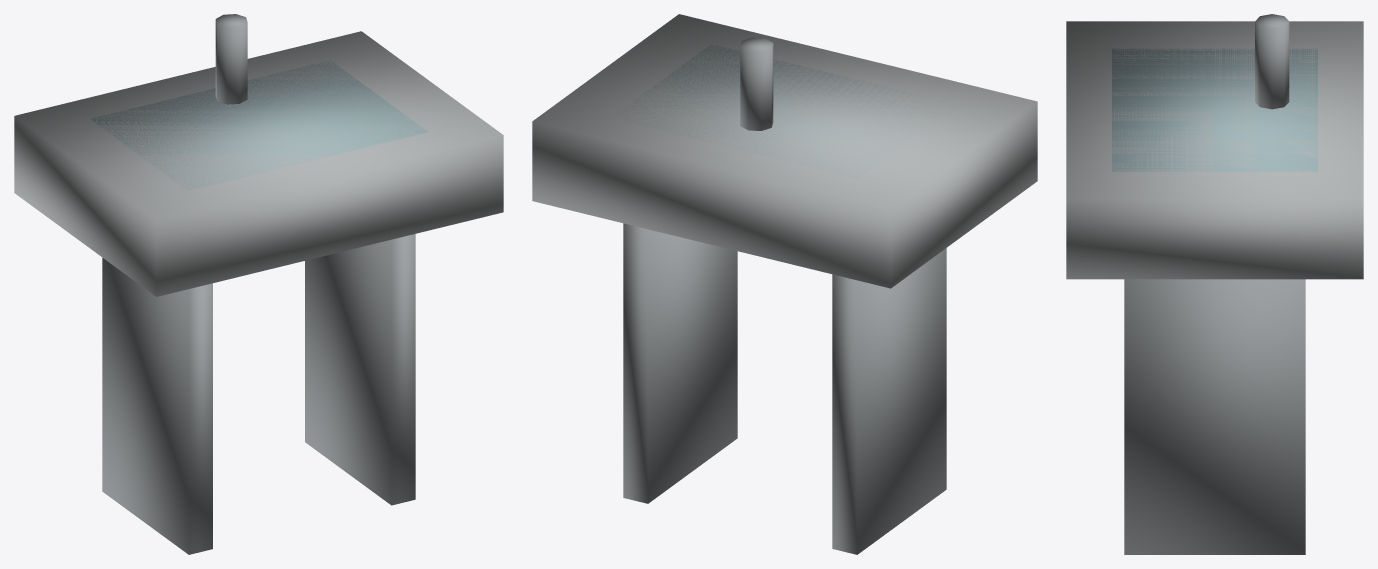
The model's file is bar_sink__squat.glb.
3 renders of one model, left to right at view 1: azimuth 30°, elevation 25°; view 2: azimuth 150°, elevation 25°; view 3: azimuth 270°, elevation 25°, orthographic. The views are drawn at different scales.
Visible parts, largest first — view 1: world; view 2: world; view 3: world.
Part boxes in pixels (left/top/right/bottom): world: left=14, top=14, right=503, bottom=554; world: left=532, top=14, right=1037, bottom=554; world: left=1066, top=14, right=1363, bottom=554.
Size of the model in its own units: 0.792 by 0.9912 by 0.5616.
